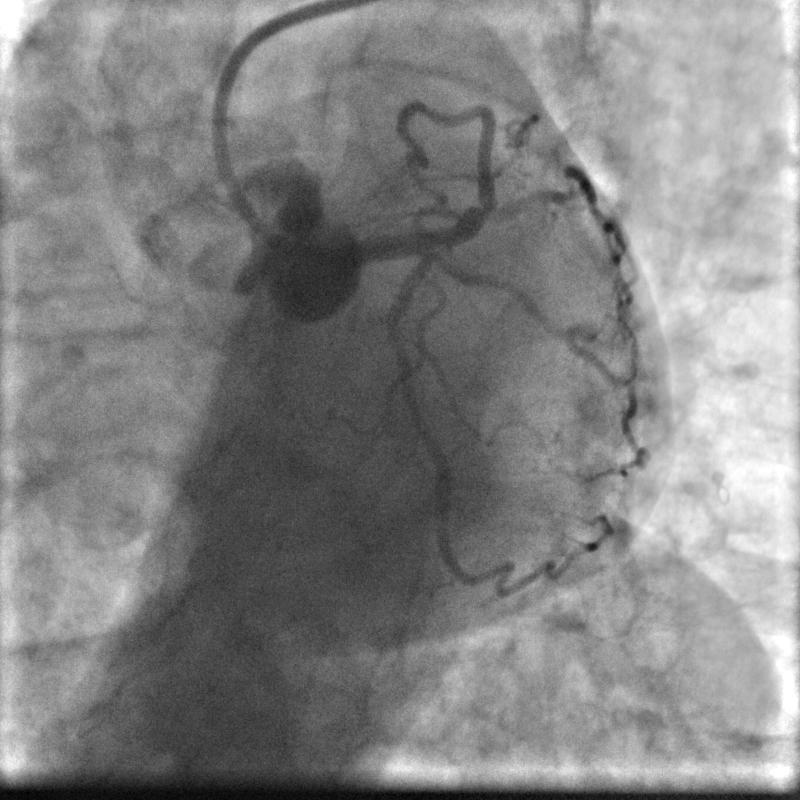Stenosis: (385, 326, 411, 374)
